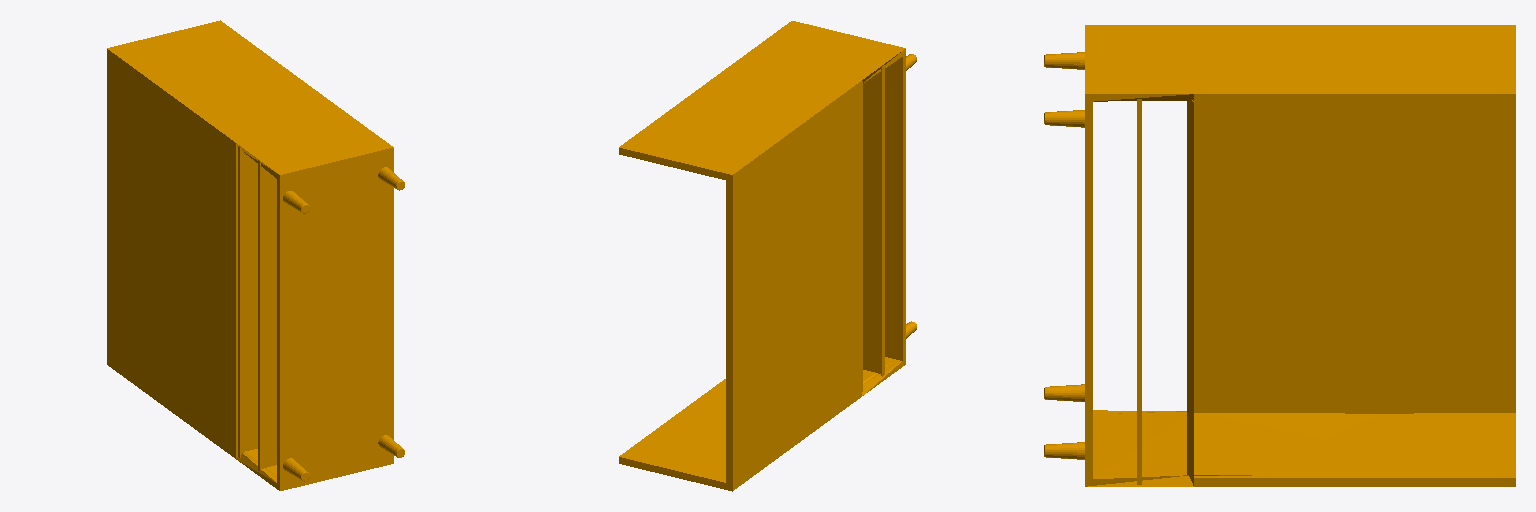
The robot description file, URDF, robot "shelf":
<?xml version="1.0" ?>
<robot name="shelf" >
  <link name="shelf">
    <inertial>
      <origin rpy="0 0 0" xyz="0 0 0"/>
       <mass value="4"/>
       <inertia ixx="0.1" ixy="0" ixz="0" iyy="0.1" iyz="0" izz="0.1"/>
    </inertial>
    <visual>
      <geometry>
        <mesh filename="japan.obj" />
      </geometry>
    </visual>
    <collision>
      <geometry>
        <mesh filename="japan.obj"/>
      </geometry>
    </collision>
  </link>
</robot>

--- Facts derived from the render (not from the file) ---
3 views of the same robot in one strip: view 1: azimuth 30°, elevation 25°; view 2: azimuth 150°, elevation 25°; view 3: azimuth 270°, elevation 25° (orthographic).
Robot: shelf — 1 links, 0 joints (none); root link shelf; default pose: every joint at zero.
Visible links, largest first — view 1: shelf; view 2: shelf; view 3: shelf.
Boxes of the visible links, box(x1,y1,x2,y2) form: shelf: box(107, 20, 404, 490); shelf: box(619, 21, 916, 491); shelf: box(1044, 25, 1515, 486).
Bounding box of the posed robot: 3.19 × 9.21 × 8.47 m (x, y, z).
1 mesh visuals loaded from 1 distinct referenced files (1 OBJ).